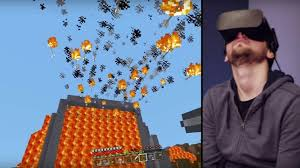oculus: (216, 9, 273, 43)
